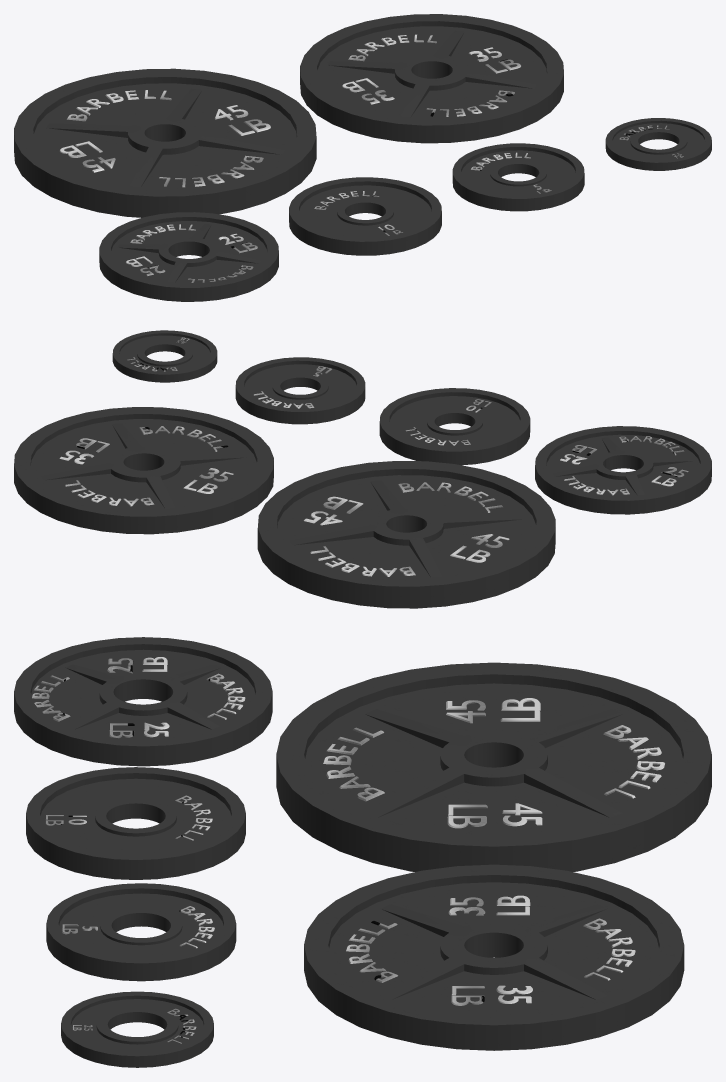
The model's file is weight_plates.glb.
3 renders of one model, top to bottom at view 1: azimuth 30°, elevation 25°; view 2: azimuth 150°, elevation 25°; view 3: azimuth 270°, elevation 25°, orthographic. The views are drawn at different scales.
Visible parts, largest first — view 1: 45LB PLate_0, 35LB Plate_2, 25LB Plate_3, 10BL Plate_4, 5LB Plate_5, 2.5LB Plate_6; view 2: 45LB PLate_0, 35LB Plate_2, 25LB Plate_3, 10BL Plate_4, 5LB Plate_5, 2.5LB Plate_6; view 3: 45LB PLate_0, 35LB Plate_2, 25LB Plate_3, 10BL Plate_4, 5LB Plate_5, 2.5LB Plate_6.
Part boxes in pixels (x1,y1,x2,y2): 45LB PLate_0: (14,68,316,217); 35LB Plate_2: (300,14,563,143); 25LB Plate_3: (99,212,278,301); 10BL Plate_4: (289,177,441,255); 5LB Plate_5: (452,143,584,211); 2.5LB Plate_6: (605,118,711,170); 45LB PLate_0: (257,461,555,608); 35LB Plate_2: (14,407,273,534); 25LB Plate_3: (535,426,711,514); 10BL Plate_4: (379,388,530,465); 5LB Plate_5: (235,357,365,424); 2.5LB Plate_6: (112,330,217,382); 45LB PLate_0: (276,662,711,871); 35LB Plate_2: (304,864,684,1050); 25LB Plate_3: (14,637,272,766); 10BL Plate_4: (26,767,245,879); 5LB Plate_5: (46,883,236,981); 2.5LB Plate_6: (61,991,213,1067).
Size of the model in its own units: 4.51 by 0.1615 by 3.2.
Materials: 1 (1 with a texture image).
